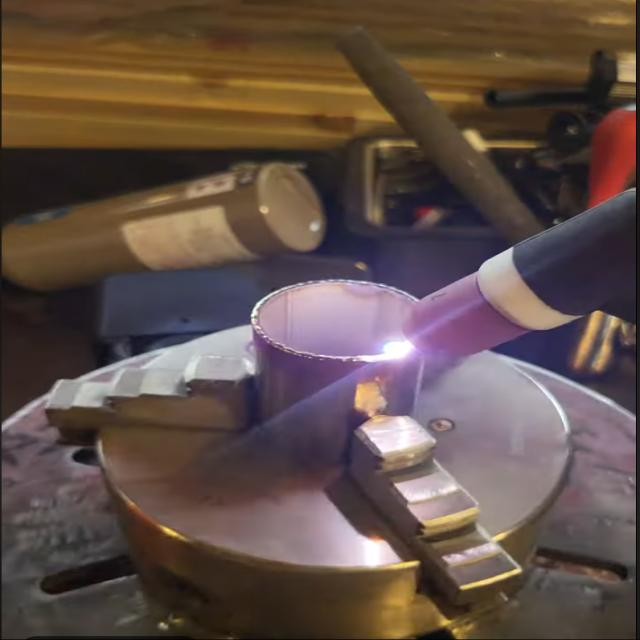welding: (378, 336, 417, 360)
